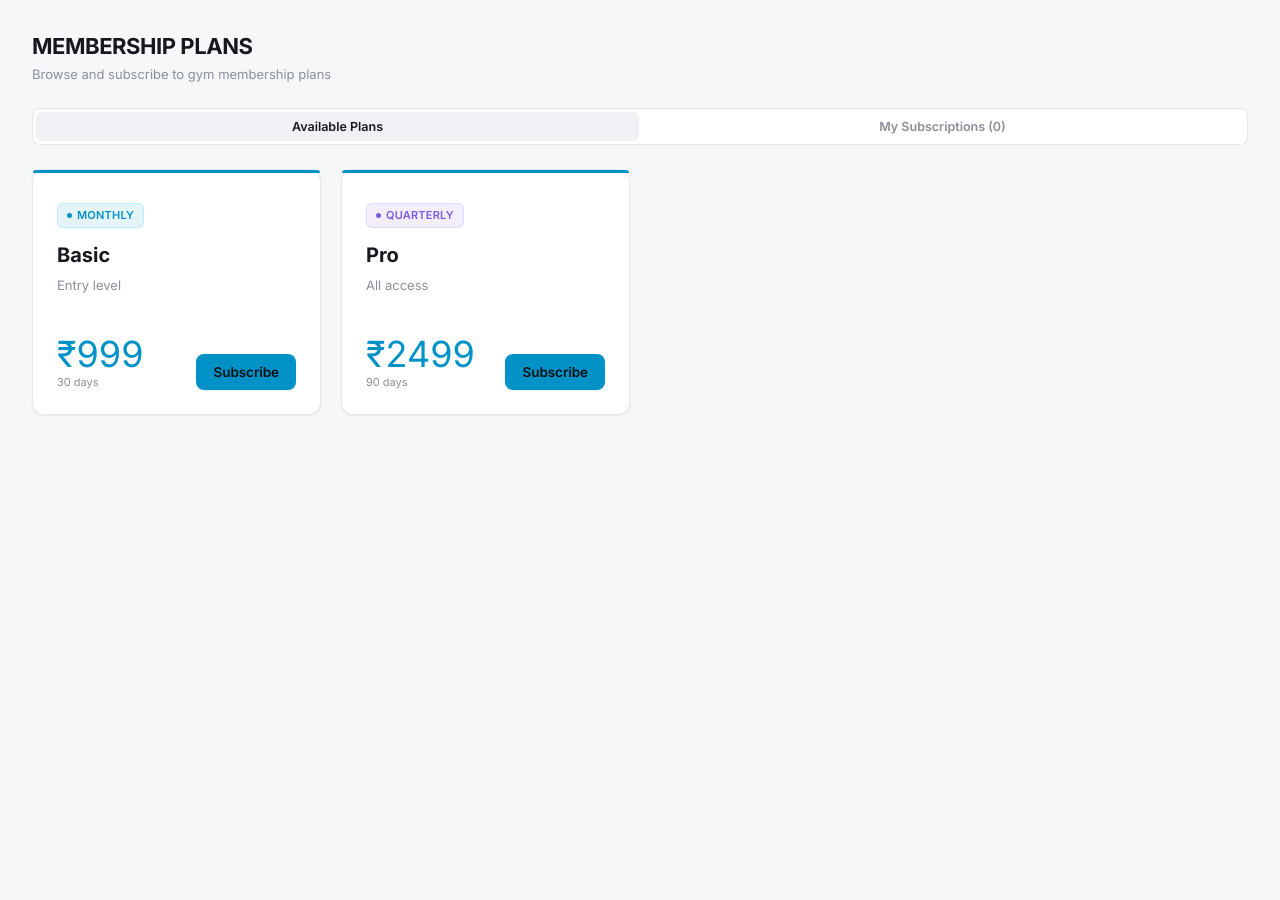
Scenario: MemberPlans — payment modal › modal closes when Cancel clicked
Click the button "Subscribe" next to "999" at (246, 372), box [196,354,296,390]
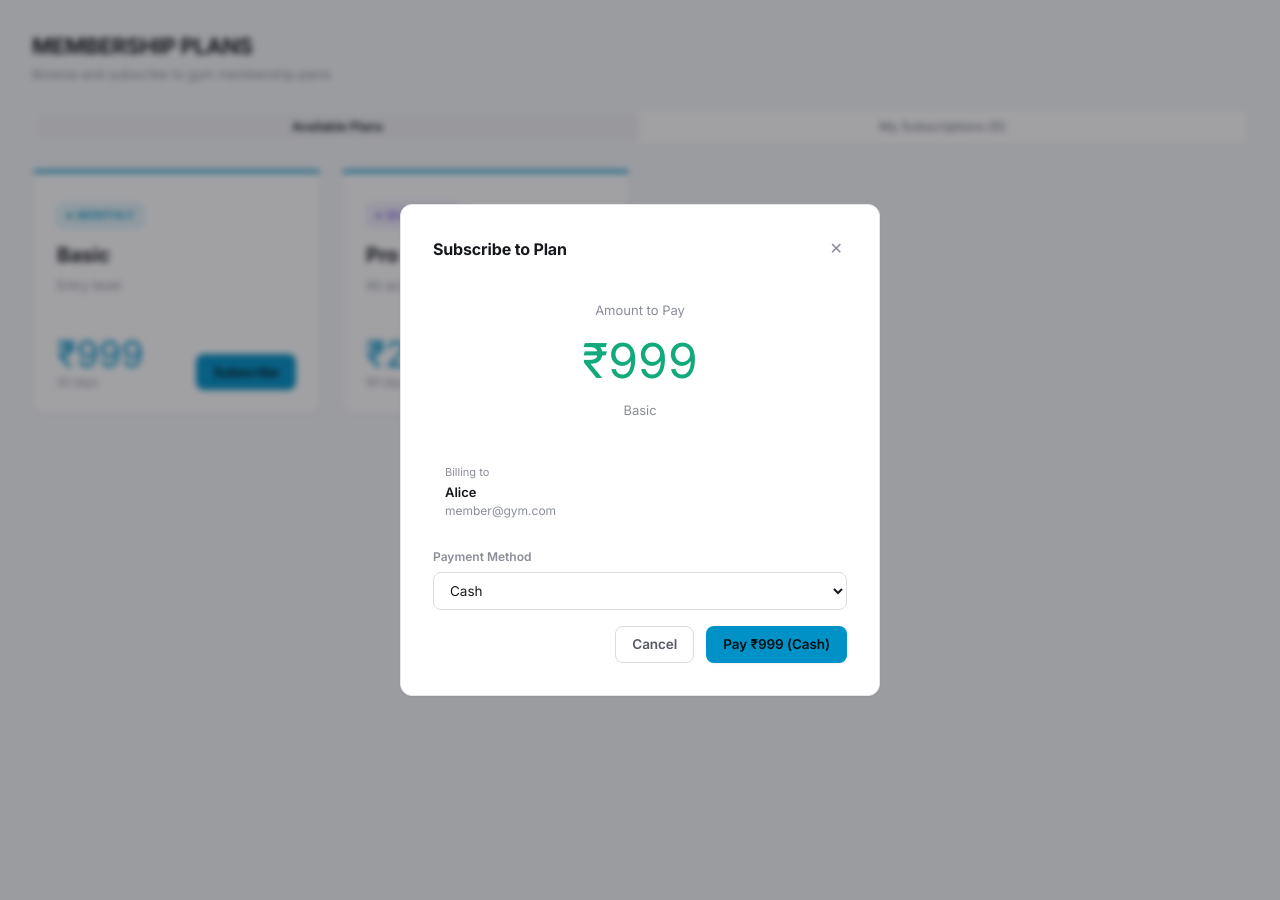
Check: the text "Subscribe to Plan" is shown, box [433,237,567,261]
Click the button "Cancel" at (655, 644), box [615,626,694,663]
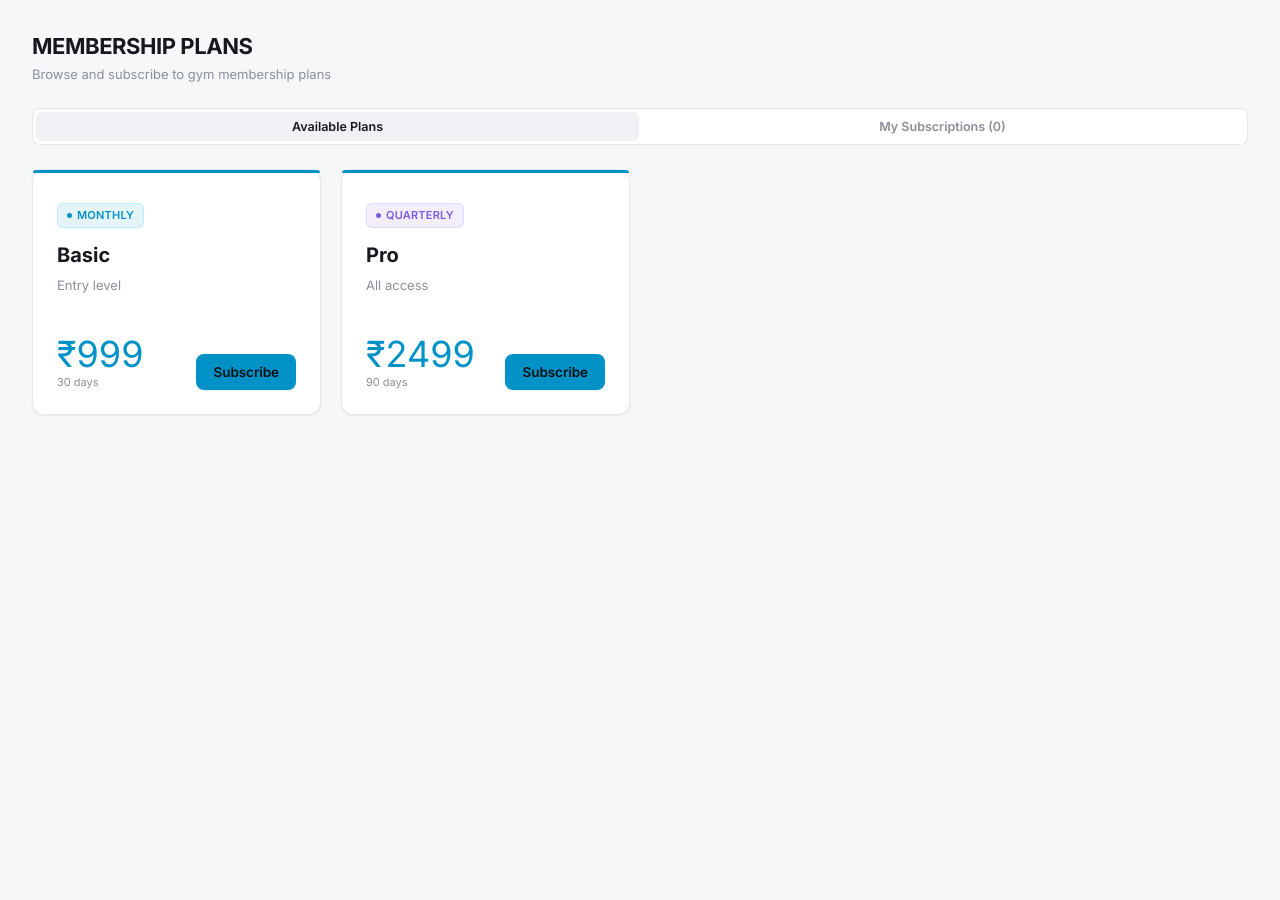
Check: the text "Subscribe to Plan" is gone
